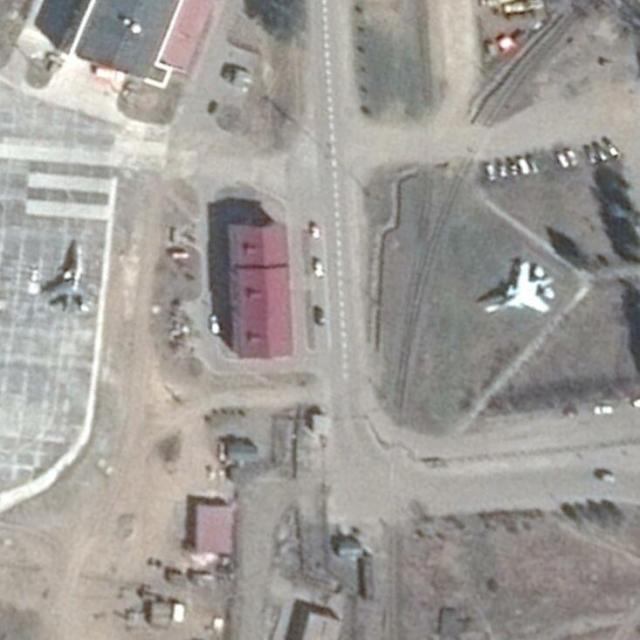fighter jet: (479, 250, 556, 330), (41, 237, 90, 316)
